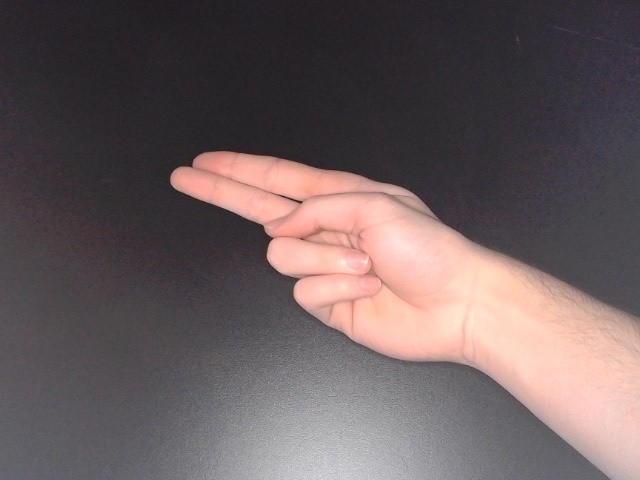h: (166, 148, 493, 381)
